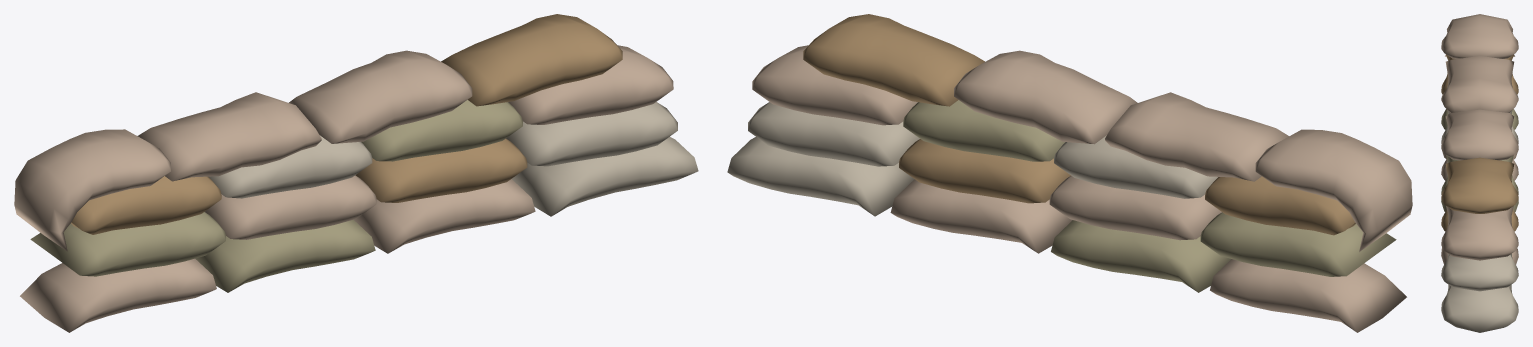
File: Sandbags.fbx
3 renders of one model, left to right at view 1: azimuth 30°, elevation 25°; view 2: azimuth 150°, elevation 25°; view 3: azimuth 270°, elevation 25°, orthographic. The views are drawn at different scales.
Visible parts, largest first — view 1: Cube.002; view 2: Cube.002; view 3: Cube.002.
Part boxes in pixels (x1,y1,x2,y2): Cube.002: (14,14,698,332); Cube.002: (727,14,1412,332); Cube.002: (1441,14,1518,332).
Size of the model in its own units: 324 by 81.06 by 47.98.
